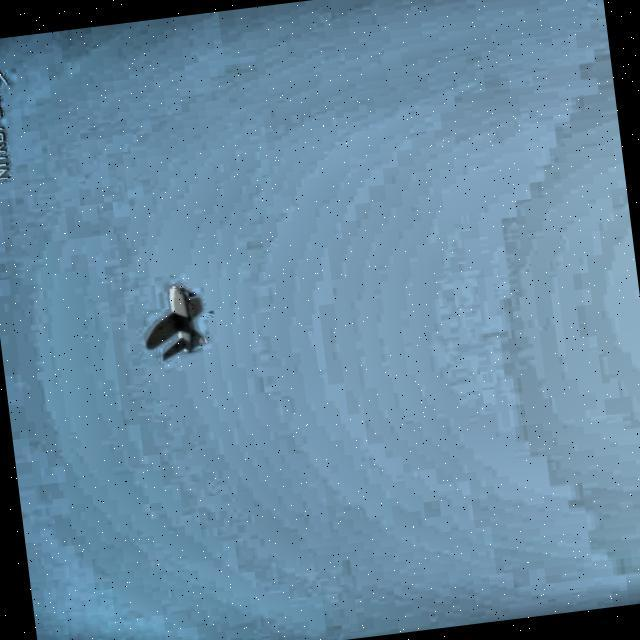iha: (164, 307, 188, 338)
